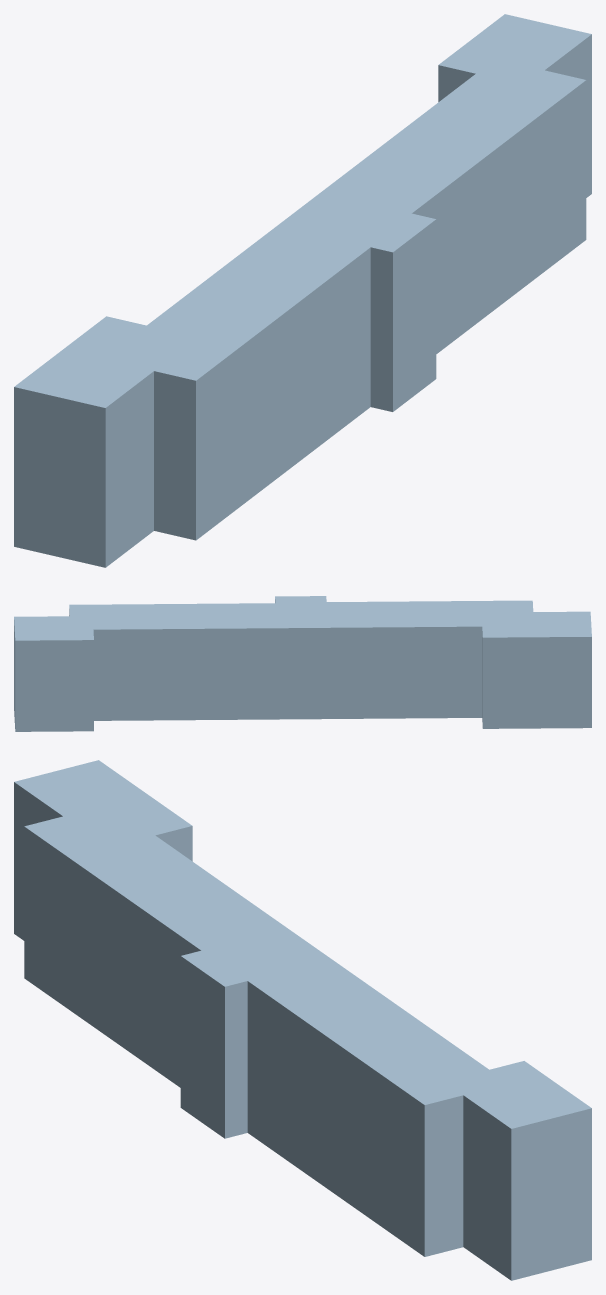
Rendered from osm_way_225198908.glb.
The picture shows the model from 3 angles, top to bottom: view 1: azimuth 30°, elevation 25°; view 2: azimuth 150°, elevation 25°; view 3: azimuth 270°, elevation 25°; orthographic projection. The views are drawn at different scales.
Visible parts, largest first — view 1: osm_way_225198908; view 2: osm_way_225198908; view 3: osm_way_225198908.
Part boxes in pixels (left/top/right/bottom): osm_way_225198908: left=14, top=14, right=591, bottom=567; osm_way_225198908: left=14, top=596, right=591, bottom=731; osm_way_225198908: left=14, top=760, right=591, bottom=1280.
Bounding box in the file's own units: 99.97 × 19.2 × 66.2.
